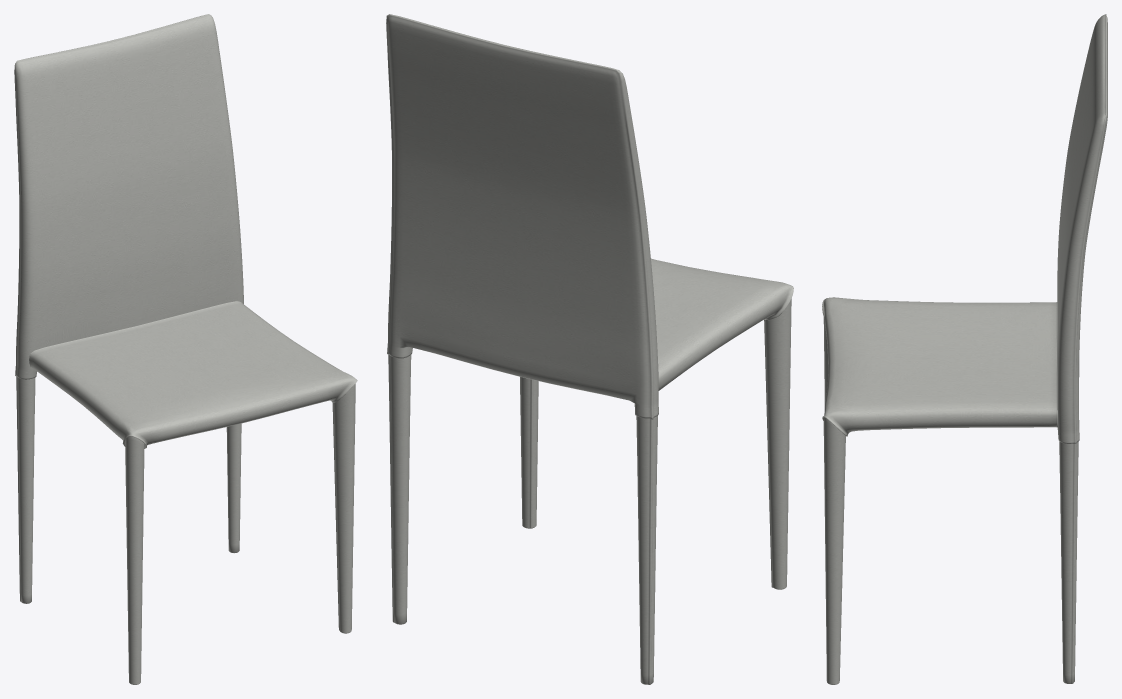
The picture shows the model from 3 angles, left to right: view 1: azimuth 30°, elevation 25°; view 2: azimuth 150°, elevation 25°; view 3: azimuth 270°, elevation 25°; orthographic projection. The views are drawn at different scales.
Visible parts, largest first — view 1: MD605-D31_Component_01, MD605-D31_Component_03, MD605-D31_Component_02 (×2), MD605-D31_Component_04 (×2); view 2: MD605-D31_Component_01, MD605-D31_Component_03, MD605-D31_Component_04 (×2), MD605-D31_Component_02 (×2); view 3: MD605-D31_Component_03, MD605-D31_Component_01, MD605-D31_Component_02, MD605-D31_Component_04.
Part boxes in pixels (x1,y1,x2,y2): MD605-D31_Component_01: (14,14,243,379); MD605-D31_Component_03: (29,301,357,448); MD605-D31_Component_02 (×2): (125,384,355,684); MD605-D31_Component_04 (×2): (16,376,241,603); MD605-D31_Component_01: (386,14,658,419); MD605-D31_Component_03: (651,258,793,390); MD605-D31_Component_04 (×2): (388,354,657,684); MD605-D31_Component_02 (×2): (520,298,791,589); MD605-D31_Component_03: (822,297,1057,436); MD605-D31_Component_01: (1057,14,1107,443); MD605-D31_Component_02: (823,417,845,684); MD605-D31_Component_04: (1059,441,1078,683).
Bounding box in the file's own units: 17 × 17 × 36.99.
Materials: 1 (1 with a texture image).
